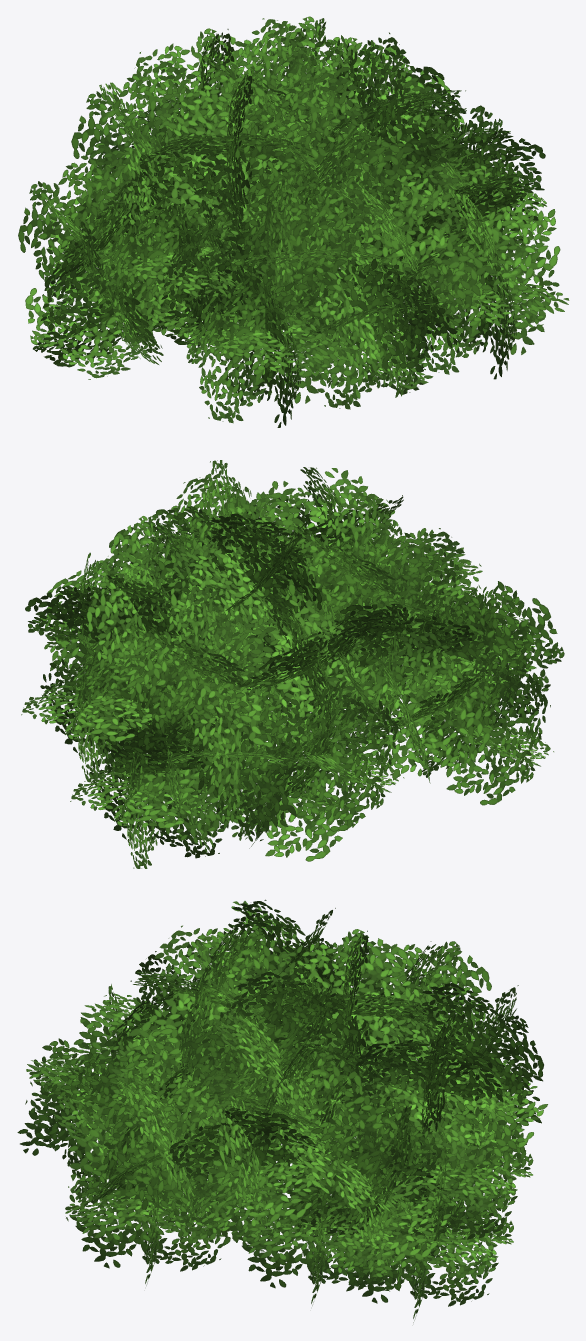
File: HugeTreeLeaves.obj
3 renders of one model, top to bottom at view 1: azimuth 30°, elevation 25°; view 2: azimuth 150°, elevation 25°; view 3: azimuth 270°, elevation 25°, orthographic. The views are drawn at different scales.
Visible parts, largest first — view 1: HugeTreeLeaves; view 2: HugeTreeLeaves; view 3: HugeTreeLeaves.
Boxes of the visible parts, <box> form: HugeTreeLeaves: <box>18,16,569,427</box>; HugeTreeLeaves: <box>21,460,564,868</box>; HugeTreeLeaves: <box>17,899,547,1322</box>.
Bounding box in the file's own units: 119 × 81.66 × 113.
